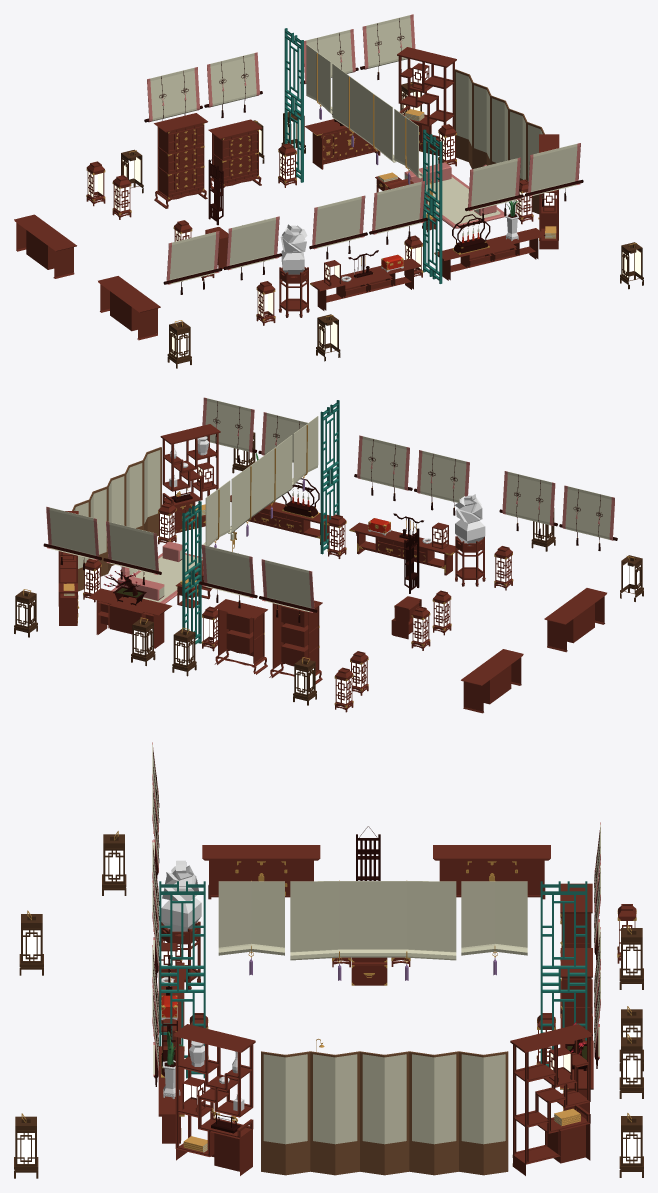
File: jungjun_furniture_3.25.22.fbx
3 renders of one model, top to bottom at view 1: azimuth 30°, elevation 25°; view 2: azimuth 150°, elevation 25°; view 3: azimuth 270°, elevation 25°, orthographic. The views are drawn at different scales.
Visible parts, largest first — view 1: J_커튼.003, J_커튼.001, J_가림발, J_병풍, J_파티션, J_3층장, J_사방탁자 L, J_복도책장02, J_복도책장01, J_보료, J_3층장.001, J_커튼.005 (+22 smaller); view 2: J_커튼.001, J_커튼.003, J_가림발, J_병풍, J_파티션, J_3층장, J_3층장.001, J_사방탁자 R, J_복도책장02, J_복도책장01, J_커튼.004, J_커튼.005 (+28 smaller); view 3: J_병풍, J_가림발, J_사방탁자 L, J_사방탁자 R, J_파티션, J_복도책장02, J_복도책장01, J_3층장.001, J_화병.001, J_3층장, J_커튼.003, J_커튼.001 (+17 smaller).
Part boxes in pixels (<box>): J_커튼.003: <box>309,143,583,259</box>; J_커튼.001: <box>144,14,415,122</box>; J_가림발: <box>306,44,422,178</box>; J_병풍: <box>454,69,544,213</box>; J_파티션: <box>284,28,442,283</box>; J_3층장: <box>154,113,207,208</box>; J_사방탁자 L: <box>397,47,456,155</box>; J_복도책장02: <box>14,214,76,278</box>; J_복도책장01: <box>98,276,160,340</box>; J_보료: <box>404,162,506,228</box>; J_3층장.001: <box>208,119,262,194</box>; J_커튼.005: <box>163,231,222,294</box>; J_커튼.001: <box>43,506,317,622</box>; J_커튼.003: <box>202,397,469,515</box>; J_가림발: <box>203,416,318,546</box>; J_병풍: <box>72,447,161,591</box>; J_파티션: <box>182,400,339,644</box>; J_3층장: <box>269,600,322,684</box>; J_3층장.001: <box>214,599,267,674</box>; J_사방탁자 R: <box>160,424,220,533</box>; J_복도책장02: <box>461,649,523,713</box>; J_복도책장01: <box>544,588,606,652</box>; J_커튼.004: <box>499,471,557,536</box>; J_커튼.005: <box>559,485,617,550</box>; J_병풍: <box>261,1051,508,1175</box>; J_가림발: <box>218,880,527,960</box>; J_사방탁자 L: <box>510,1024,592,1175</box>; J_사방탁자 R: <box>173,1024,255,1175</box>; J_파티션: <box>159,881,587,1078</box>; J_복도책장02: <box>433,845,550,899</box>; J_복도책장01: <box>202,845,320,899</box>; J_3층장.001: <box>560,948,592,1040</box>; J_화병.001: <box>161,860,201,931</box>; J_3층장: <box>560,883,592,1017</box>; J_커튼.003: <box>152,840,159,1086</box>; J_커튼.001: <box>594,822,600,1068</box>.
Bounding box in the file's own units: 925 × 288 × 841.
